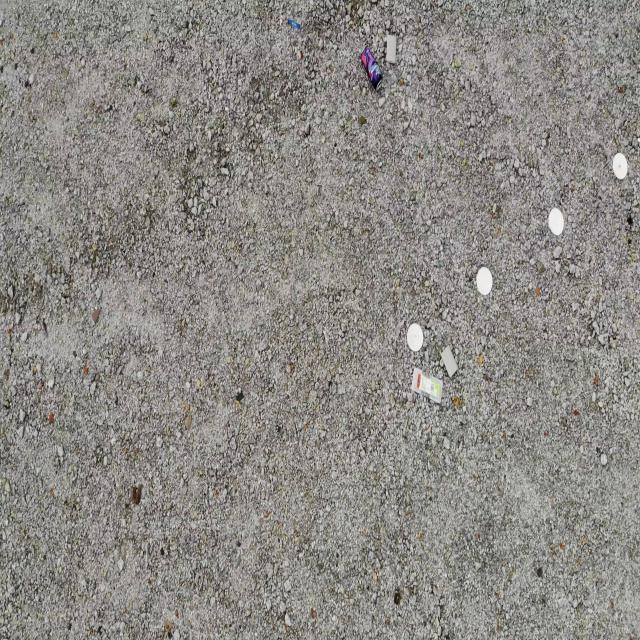rubbish: (412, 367, 442, 406), (360, 44, 384, 91), (440, 345, 459, 380), (385, 32, 396, 65), (286, 16, 301, 29)
